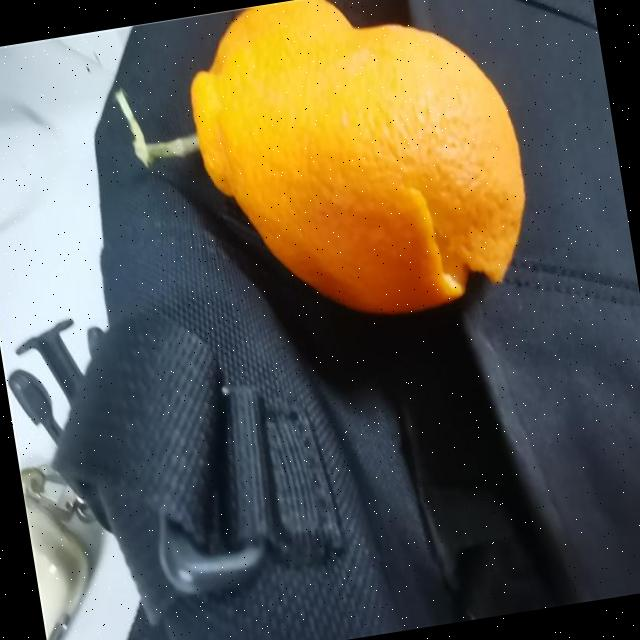orange-peel: (175, 0, 544, 342)
